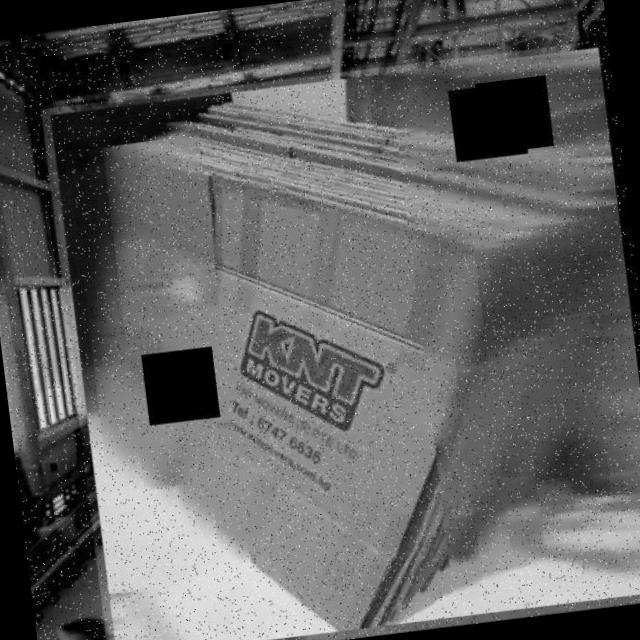box: (41, 39, 640, 640)
